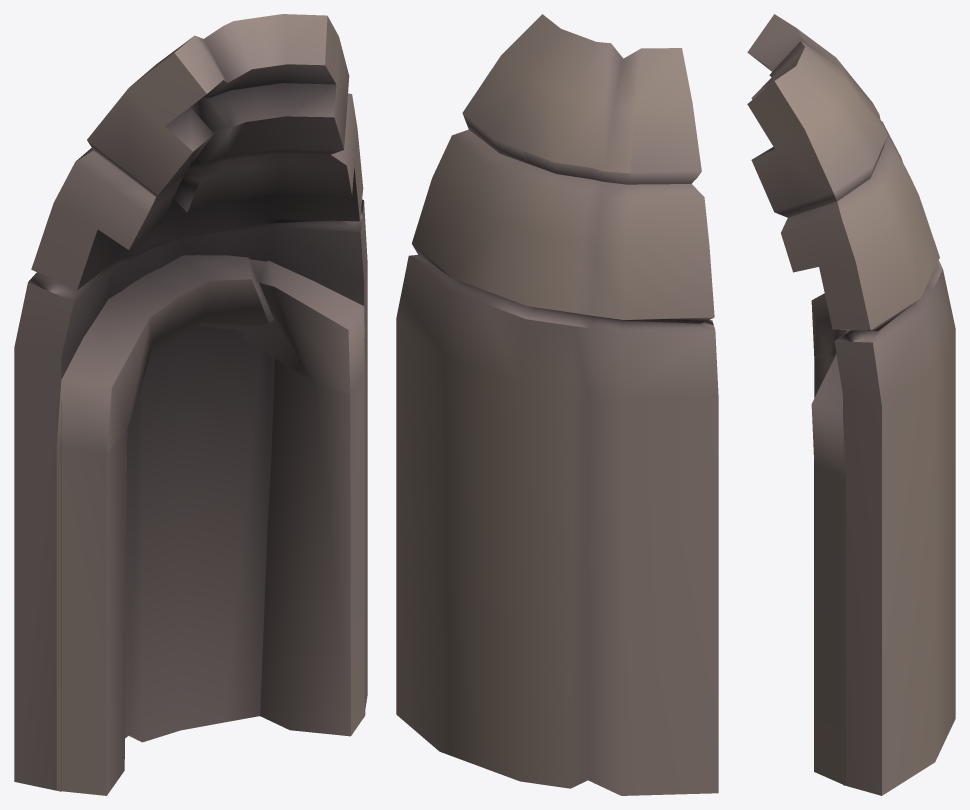
The model's file is buildings-ruins-ancientruins_v6.glb.
3 views of the same model, side by side, from view 1: azimuth 30°, elevation 25°; view 2: azimuth 150°, elevation 25°; view 3: azimuth 270°, elevation 25° (orthographic). The views are drawn at different scales.
Visible parts, largest first — view 1: AncientRuins_v6; view 2: AncientRuins_v6; view 3: AncientRuins_v6.
Part boxes in pixels (x1,y1,x2,y2): AncientRuins_v6: [14, 14, 367, 795]; AncientRuins_v6: [396, 14, 718, 795]; AncientRuins_v6: [747, 14, 955, 795].
Size of the model in its own units: 4.14 by 8.4 by 2.36.
